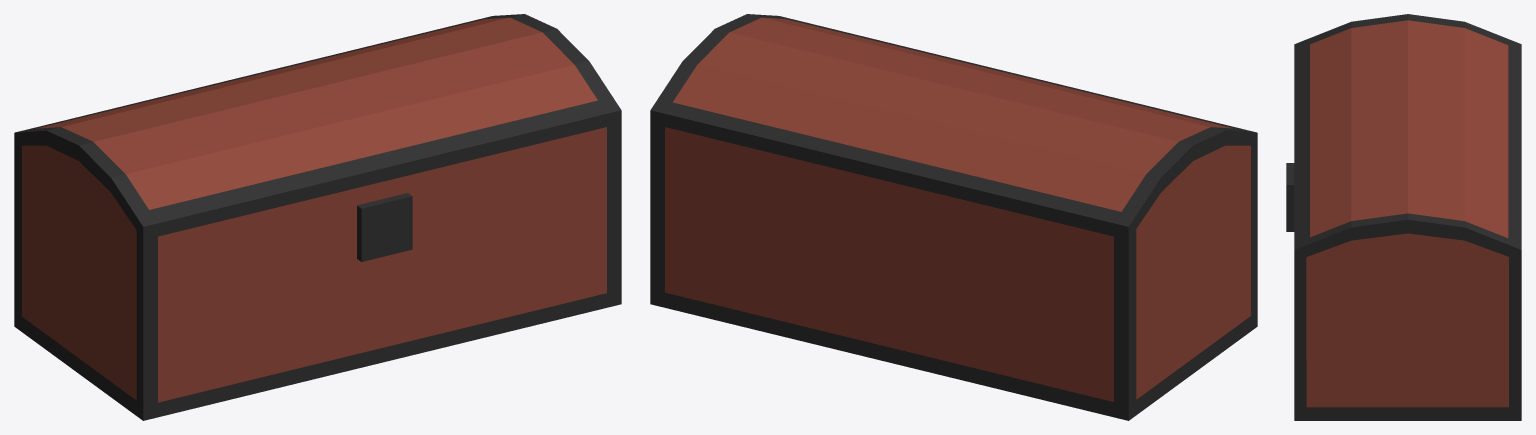
File: Box_3_Red.fbx
3 views of the same model, side by side, from view 1: azimuth 30°, elevation 25°; view 2: azimuth 150°, elevation 25°; view 3: azimuth 270°, elevation 25° (orthographic). The views are drawn at different scales.
Visible parts, largest first — view 1: Box_3_Red_Part_1, Box_3_Red_Part_2; view 2: Box_3_Red_Part_1, Box_3_Red_Part_2; view 3: Box_3_Red_Part_1, Box_3_Red_Part_2.
Part boxes in pixels (x1,y1,x2,y2): Box_3_Red_Part_1: [22, 17, 606, 402]; Box_3_Red_Part_2: [14, 14, 621, 420]; Box_3_Red_Part_1: [665, 17, 1250, 401]; Box_3_Red_Part_2: [650, 14, 1257, 420]; Box_3_Red_Part_1: [1306, 20, 1508, 407]; Box_3_Red_Part_2: [1286, 14, 1521, 420].
Size of the model in its own units: 150 by 68.44 by 72.5.
